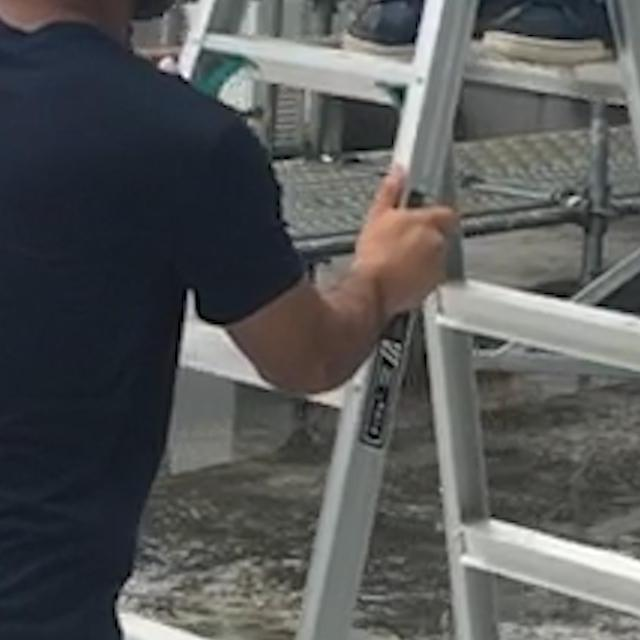NO-Safety Vest: (0, 25, 185, 640)
Person: (0, 0, 464, 640)
